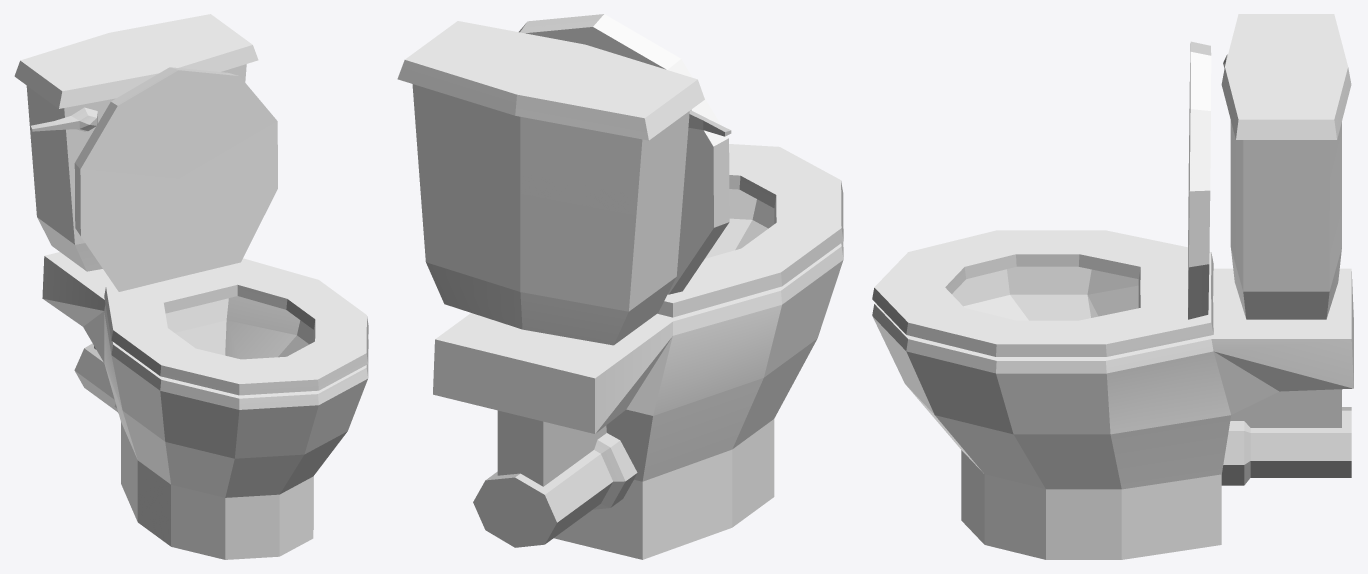
File: Toilet.fbx
3 renders of one model, left to right at view 1: azimuth 30°, elevation 25°; view 2: azimuth 150°, elevation 25°; view 3: azimuth 270°, elevation 25°, orthographic. The views are drawn at different scales.
Visible parts, largest first — view 1: Toilet; view 2: Toilet; view 3: Toilet.
Part boxes in pixels (bbox=[...]): Toilet: bbox=[14, 14, 368, 559]; Toilet: bbox=[397, 14, 843, 559]; Toilet: bbox=[872, 14, 1353, 559].
Size of the model in its own units: 28.85 by 49.93 by 46.5.
